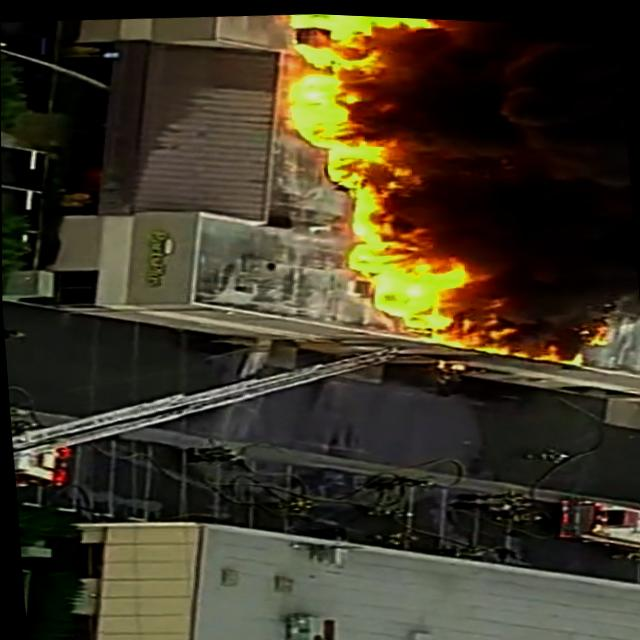fire: (263, 39, 411, 180), (350, 194, 478, 323), (264, 9, 452, 61)
smoke: (477, 17, 636, 279)
